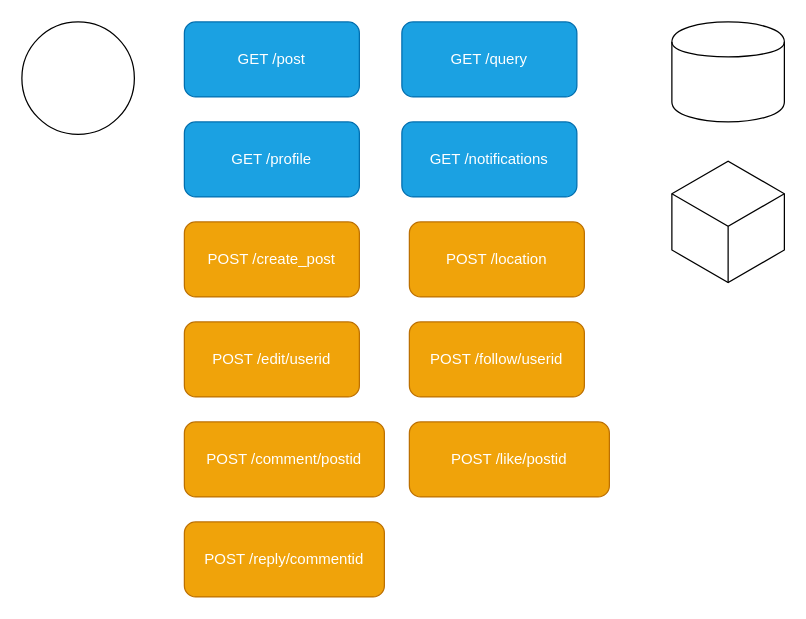
The diagram is 806 pixels wide and 619 high, and some of its shapes have lost their labels. Each missing label, with the box of its shape:
API gateway: (21, 21, 134, 134)
DynamoDB: (671, 21, 784, 122)
S3 Bucket: (671, 158, 784, 284)
